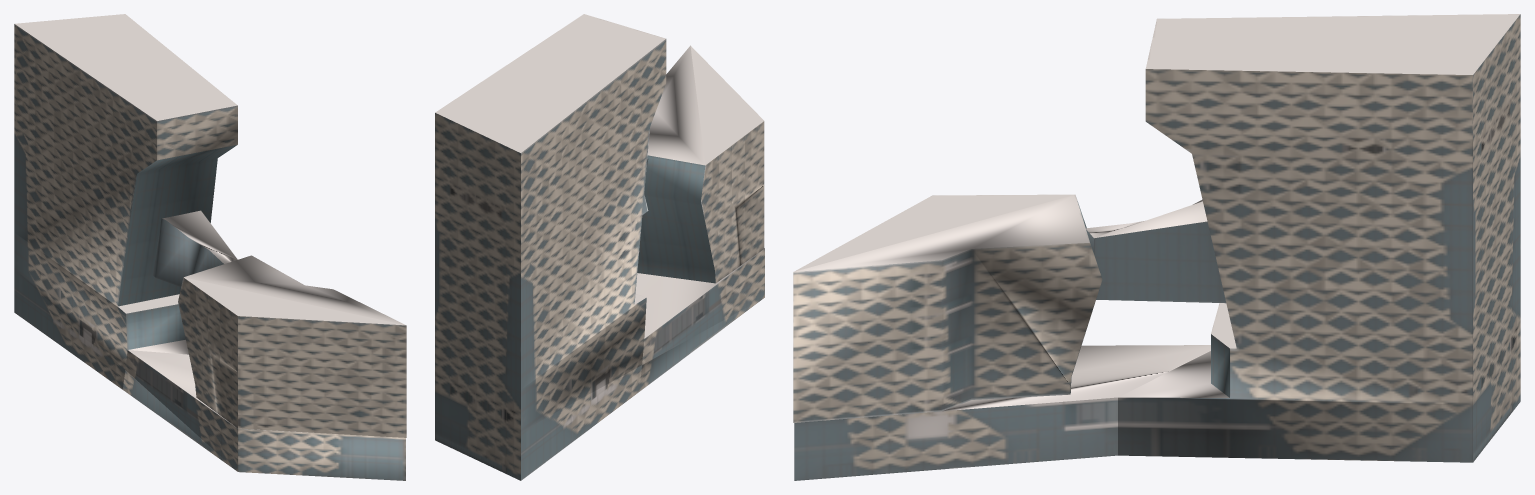
3 views of the same model, side by side, from view 1: azimuth 30°, elevation 25°; view 2: azimuth 150°, elevation 25°; view 3: azimuth 270°, elevation 25° (orthographic). The views are drawn at different scales.
Visible parts, largest first — view 1: 111A.COPY.001; view 2: 111A.COPY.001; view 3: 111A.COPY.001.
Part boxes in pixels (x1,y1,x2,y2): 111A.COPY.001: (14, 14, 406, 480); 111A.COPY.001: (435, 14, 764, 480); 111A.COPY.001: (793, 14, 1520, 480).
Size of the model in its own units: 34.68 by 78.76 by 134.
1 material, 1 textured.
